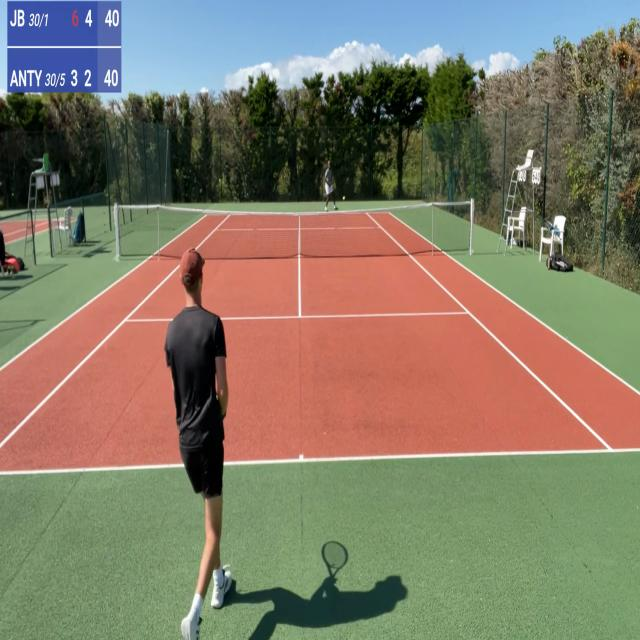ball: (342, 195, 346, 201)
